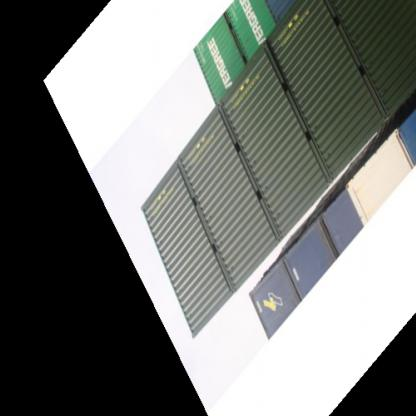Damage: (224, 96, 241, 118), (247, 154, 262, 166)
